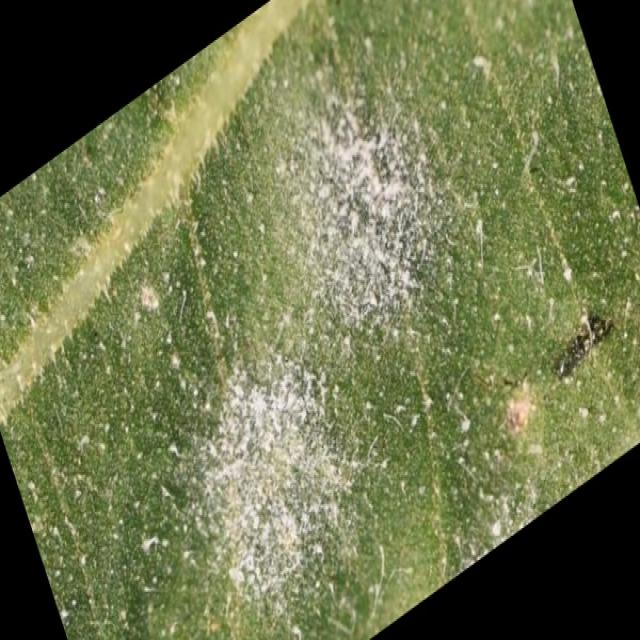Powdery Mildew: (188, 349, 364, 637), (282, 79, 438, 336)
